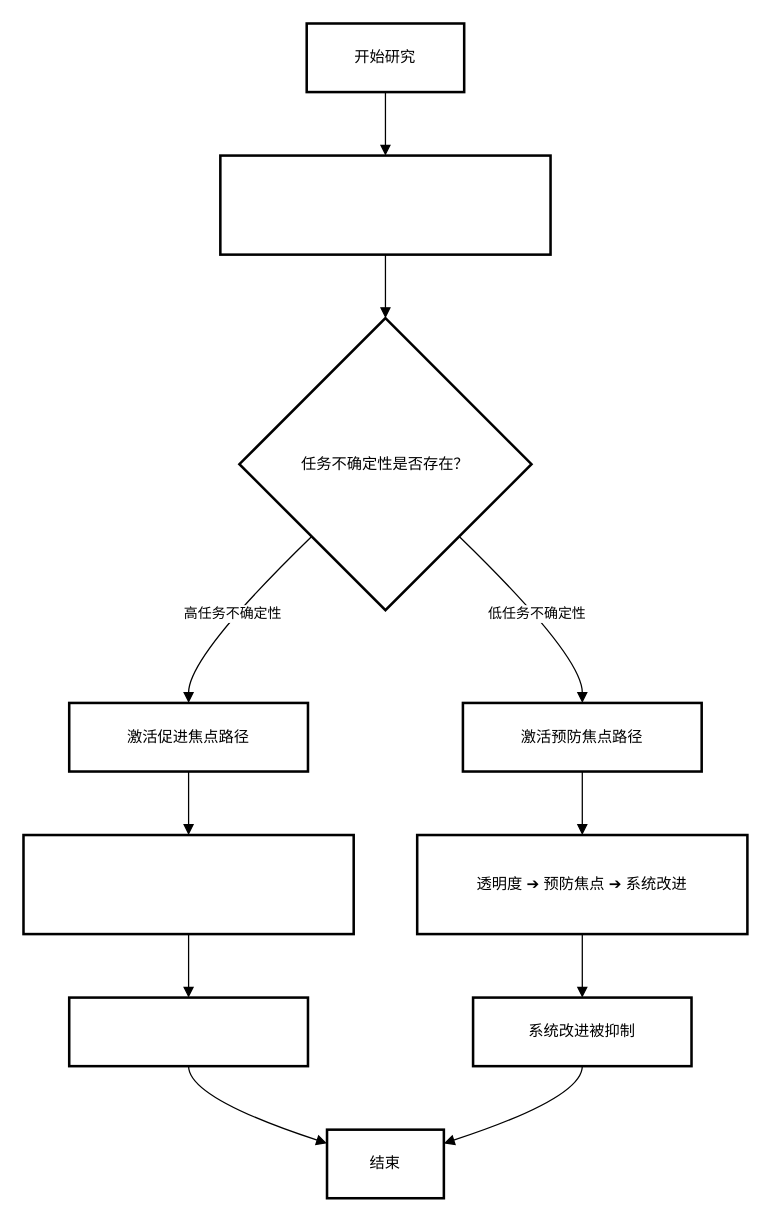
The diagram is 770 pixels wide and 1220 high, and some of its shapes have lost their labels. The shapes that lost their labels are listed below. From the top down, each one's centre as x and y in pixels, then its label:
point (384, 204): 建立透明度与系统改进理论模型
point (188, 884): 透明度 ➔ 促进焦点 ➔ 系统改进
point (188, 1031): 系统改进显著增强
